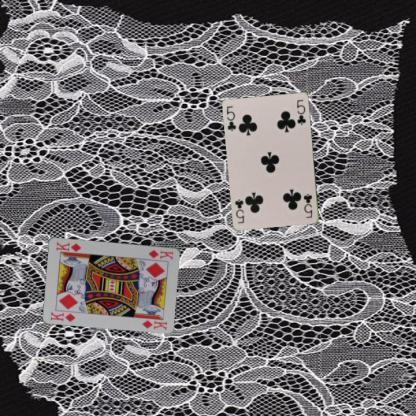5c: (224, 104, 238, 132), (301, 191, 314, 219)
Kd: (146, 247, 175, 261), (48, 309, 76, 323)
